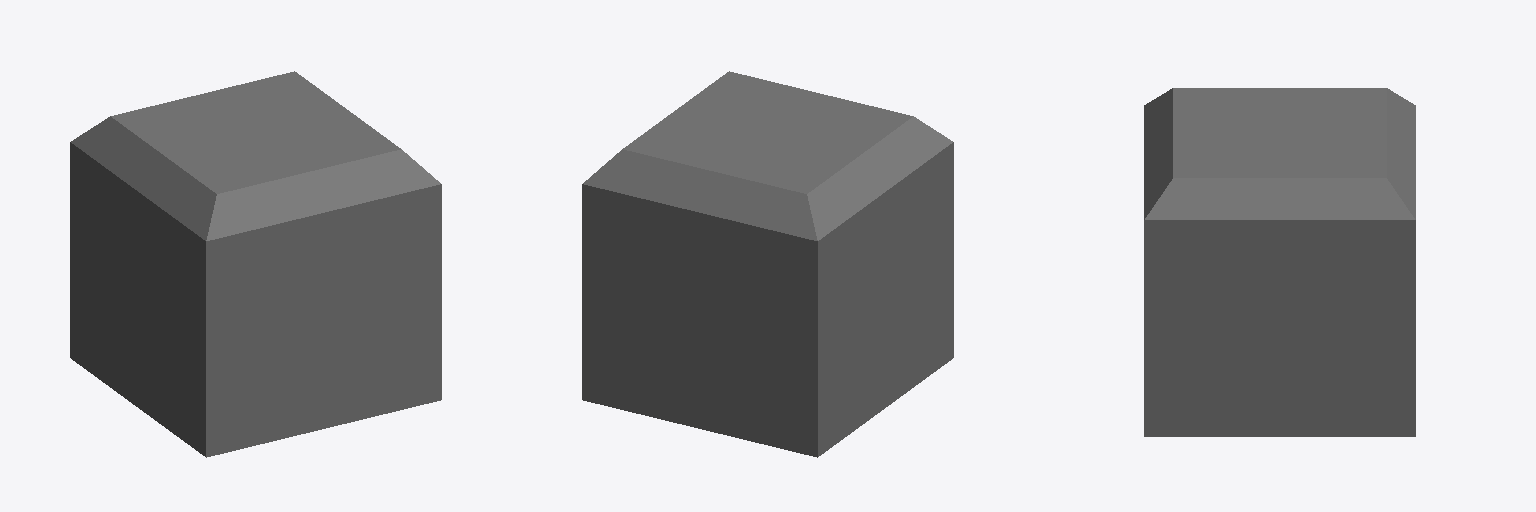
Rendered from slantroof.obj.
3 renders of one model, left to right at view 1: azimuth 30°, elevation 25°; view 2: azimuth 150°, elevation 25°; view 3: azimuth 270°, elevation 25°, orthographic.
Visible parts, largest first — view 1: slantroof1:pCube1; view 2: slantroof1:pCube1; view 3: slantroof1:pCube1.
Part boxes in pixels (bbox=[...]): slantroof1:pCube1: bbox=[70, 71, 441, 457]; slantroof1:pCube1: bbox=[582, 71, 953, 457]; slantroof1:pCube1: bbox=[1144, 88, 1415, 436].
Size of the model in its own units: 1 by 1 by 1.